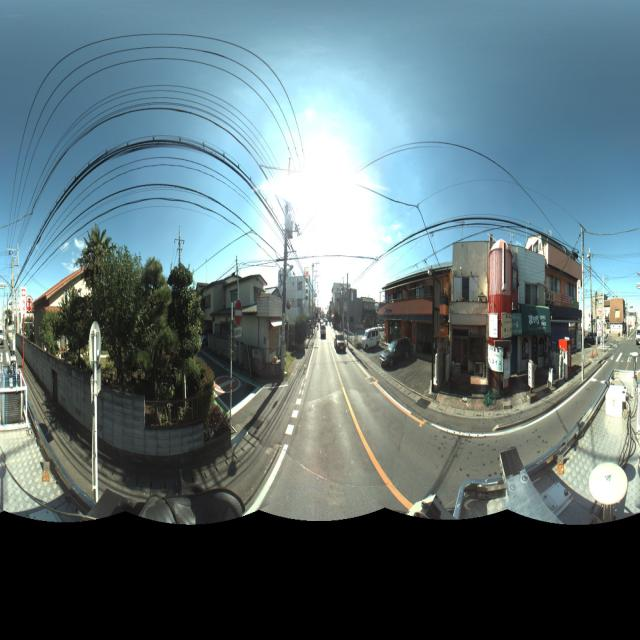b_1: (454, 231, 546, 385), (198, 266, 285, 374), (380, 252, 453, 361), (534, 225, 583, 374), (282, 264, 318, 340), (608, 292, 631, 353)
b_2: (26, 233, 126, 379)
